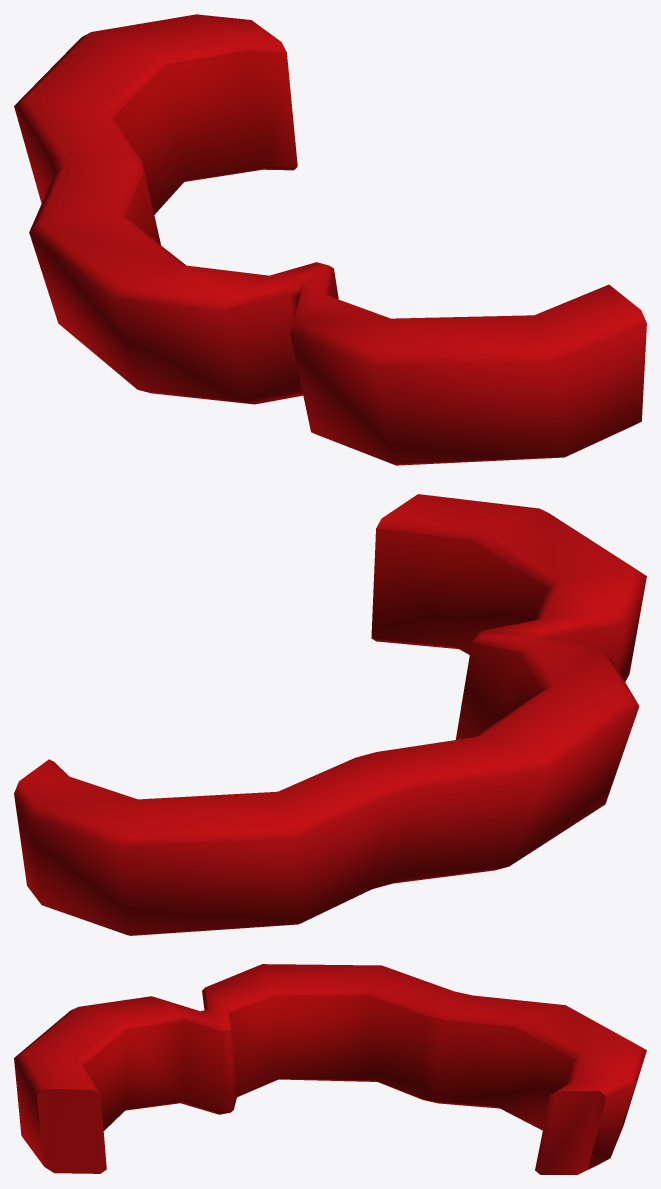
The model's file is Paprika_red_slice_half.fbx.
3 renders of one model, top to bottom at view 1: azimuth 30°, elevation 25°; view 2: azimuth 150°, elevation 25°; view 3: azimuth 270°, elevation 25°, orthographic. The views are drawn at different scales.
Parts seen in each view (by area): view 1: Paprika_red_slice_half; view 2: Paprika_red_slice_half; view 3: Paprika_red_slice_half.
Boxes of the visible parts, bbox=[...] form: Paprika_red_slice_half: bbox=[14, 14, 646, 465]; Paprika_red_slice_half: bbox=[14, 494, 646, 935]; Paprika_red_slice_half: bbox=[14, 964, 646, 1174].
Bounding box in the file's own units: 43.15 × 88.55 × 12.96.
